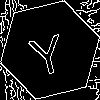Y: (25, 25, 68, 77)
